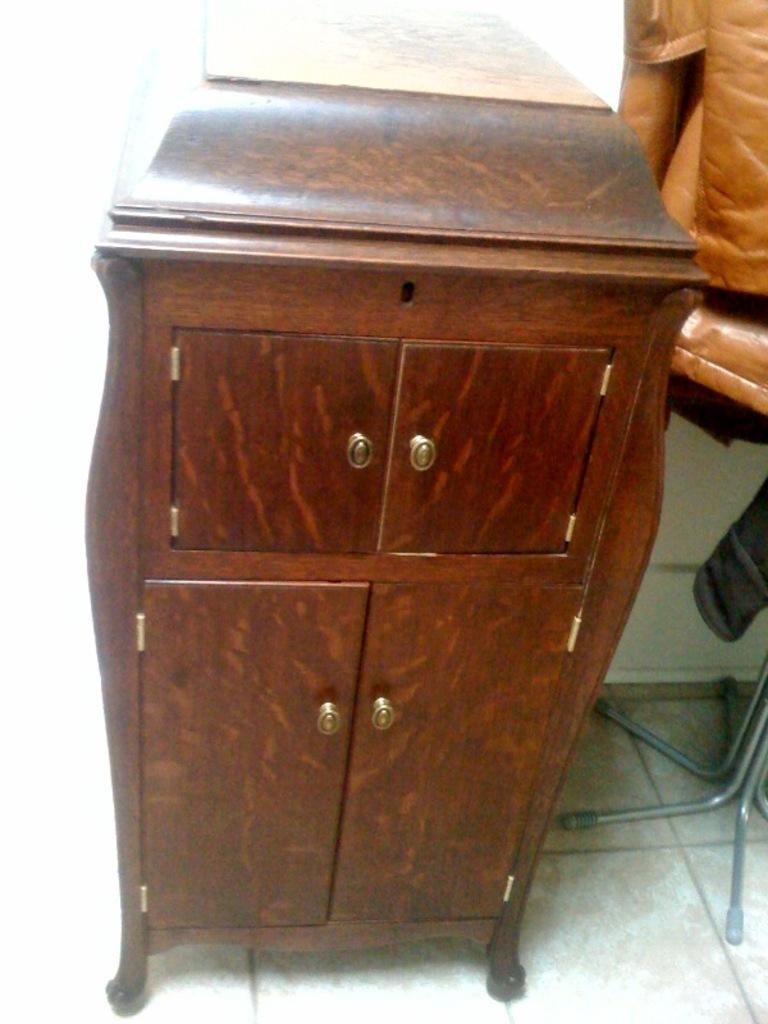cabinet_door: (139, 580, 348, 899), (370, 574, 516, 932), (180, 334, 380, 556), (387, 348, 581, 566)
handle: (344, 421, 378, 485), (404, 432, 439, 486), (374, 688, 392, 741), (319, 702, 341, 742)
